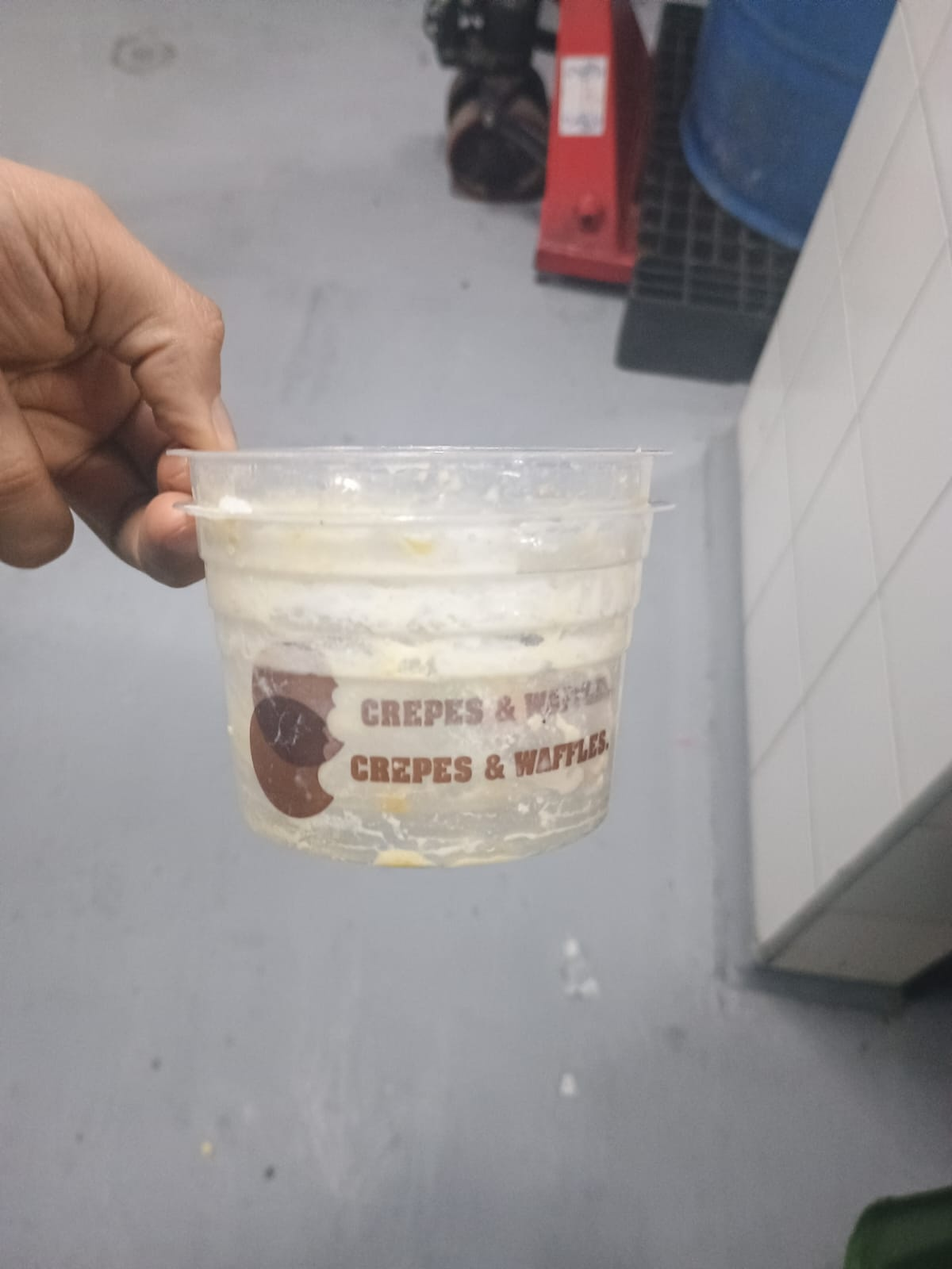Plastico: (161, 446, 680, 862)
